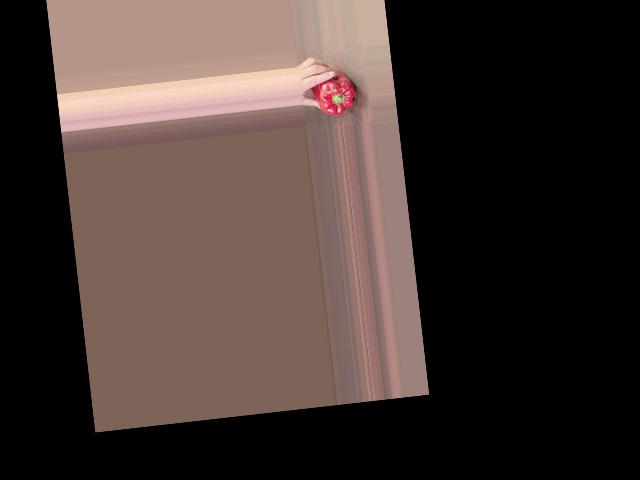bell_pepper: (312, 70, 358, 118)
